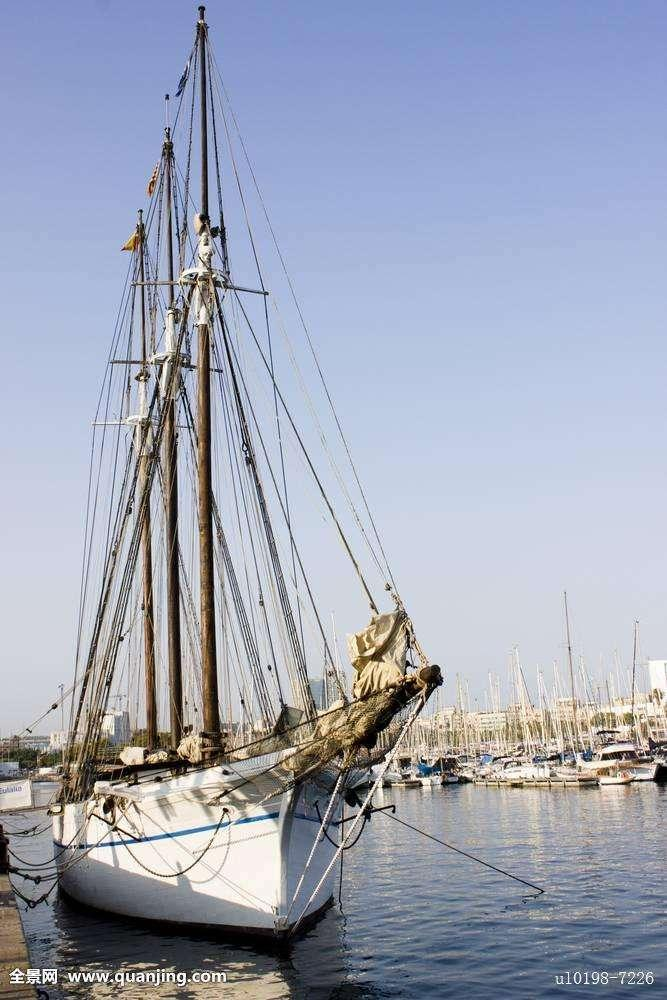fanchuan: (3, 1, 423, 940)
